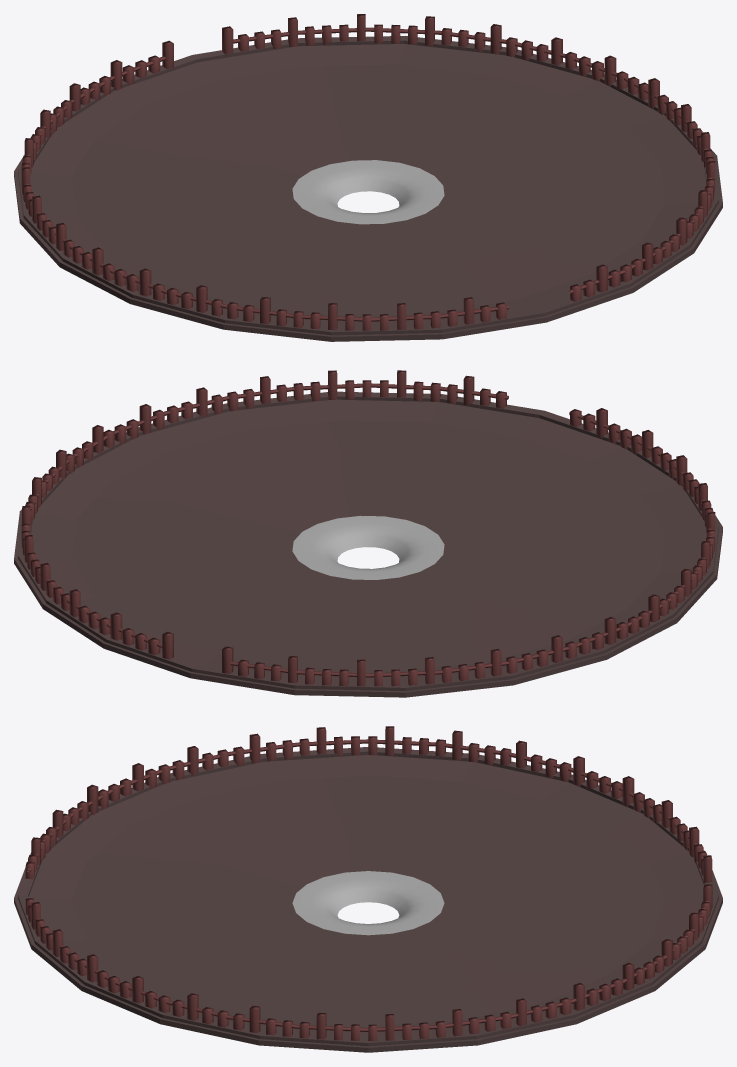
Rendered from stage3Temp.fbx.
The picture shows the model from 3 angles, top to bottom: view 1: azimuth 30°, elevation 25°; view 2: azimuth 150°, elevation 25°; view 3: azimuth 270°, elevation 25°; orthographic projection.
Visible parts, largest first — view 1: pCylinder4, polySurface206, polySurface204; view 2: pCylinder4, polySurface206, polySurface204; view 3: pCylinder4, polySurface206, polySurface204.
Part boxes in pixels (x1,y1,x2,y2): pCylinder4: [14, 36, 722, 341]; polySurface206: [21, 14, 715, 330]; polySurface204: [25, 27, 711, 321]; pCylinder4: [14, 391, 722, 697]; polySurface206: [21, 370, 715, 686]; polySurface204: [25, 383, 711, 677]; pCylinder4: [14, 747, 722, 1052]; polySurface206: [25, 726, 712, 1040]; polySurface204: [27, 739, 709, 1031].
Size of the model in its own units: 2.05 by 0.1392 by 2.05.
